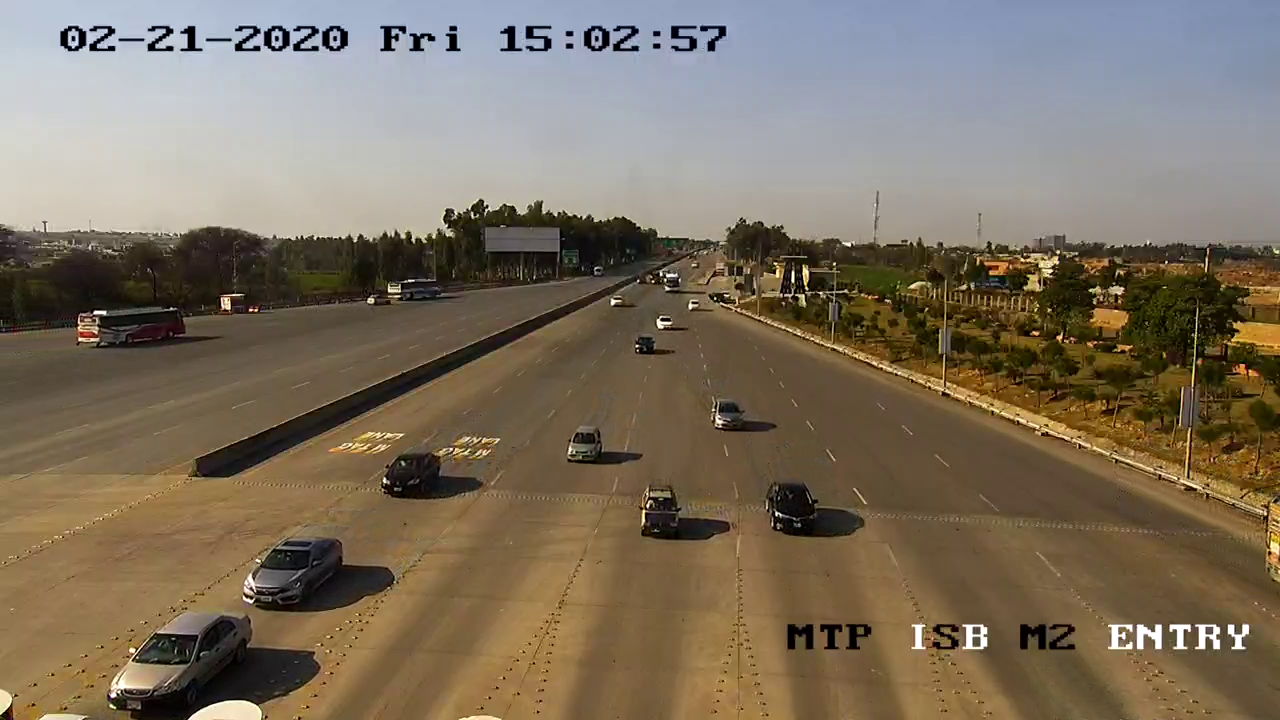f1: (94, 601, 260, 717), (239, 529, 354, 615), (757, 469, 832, 546), (626, 475, 694, 541), (376, 441, 446, 499), (559, 421, 608, 472), (705, 392, 754, 443)
